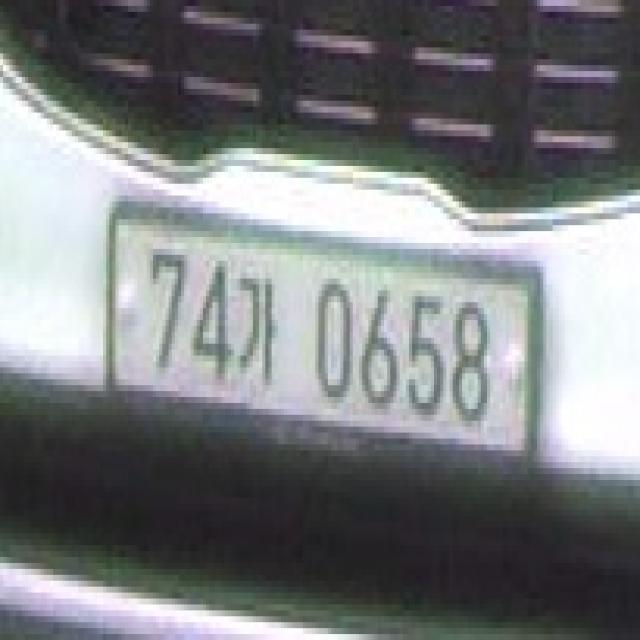plat: (104, 196, 546, 467)
